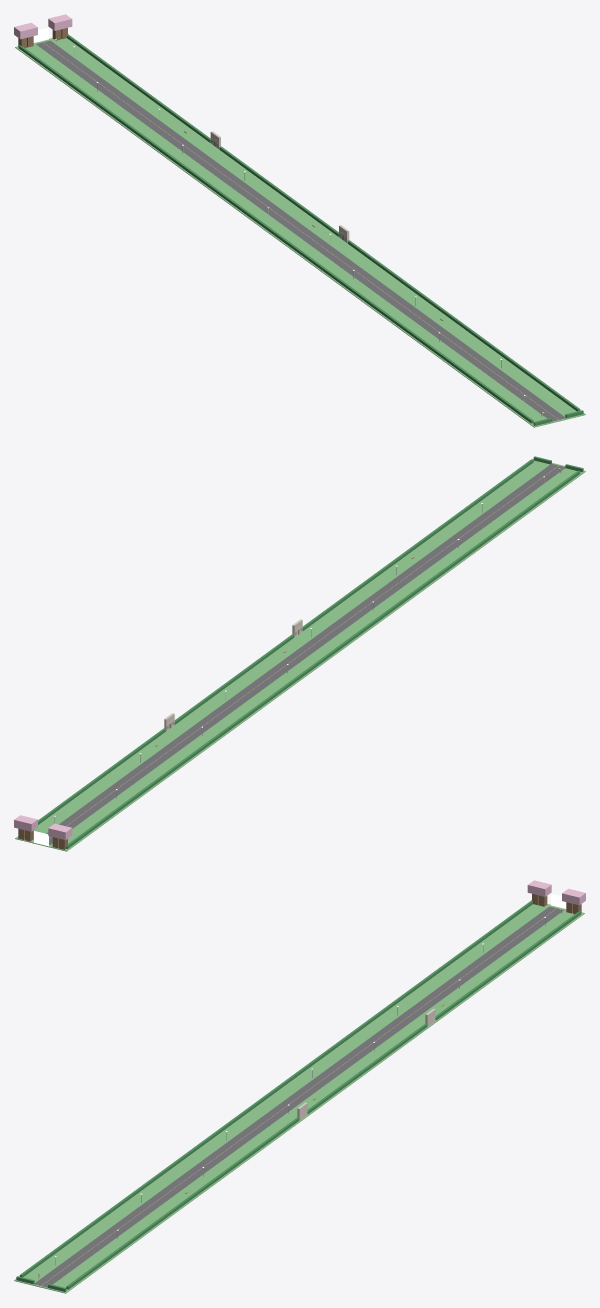
File: road.glb
3 renders of one model, top to bottom at view 1: azimuth 30°, elevation 25°; view 2: azimuth 150°, elevation 25°; view 3: azimuth 330°, elevation 25°, orthographic.
Visible parts, largest first — view 1: Ground_Road, decor_Road_Asphalt; view 2: Ground_Road, decor_Road_Asphalt; view 3: Ground_Road, decor_Road_Asphalt.
Part boxes in pixels (bbox=[...]): Ground_Road: bbox=[15, 38, 585, 427]; decor_Road_Asphalt: bbox=[36, 40, 565, 421]; Ground_Road: bbox=[15, 459, 585, 851]; decor_Road_Asphalt: bbox=[46, 463, 565, 844]; Ground_Road: bbox=[14, 904, 584, 1293]; decor_Road_Asphalt: bbox=[34, 906, 563, 1287].
Bounding box in the file's own units: 28 × 10.3 × 487.
